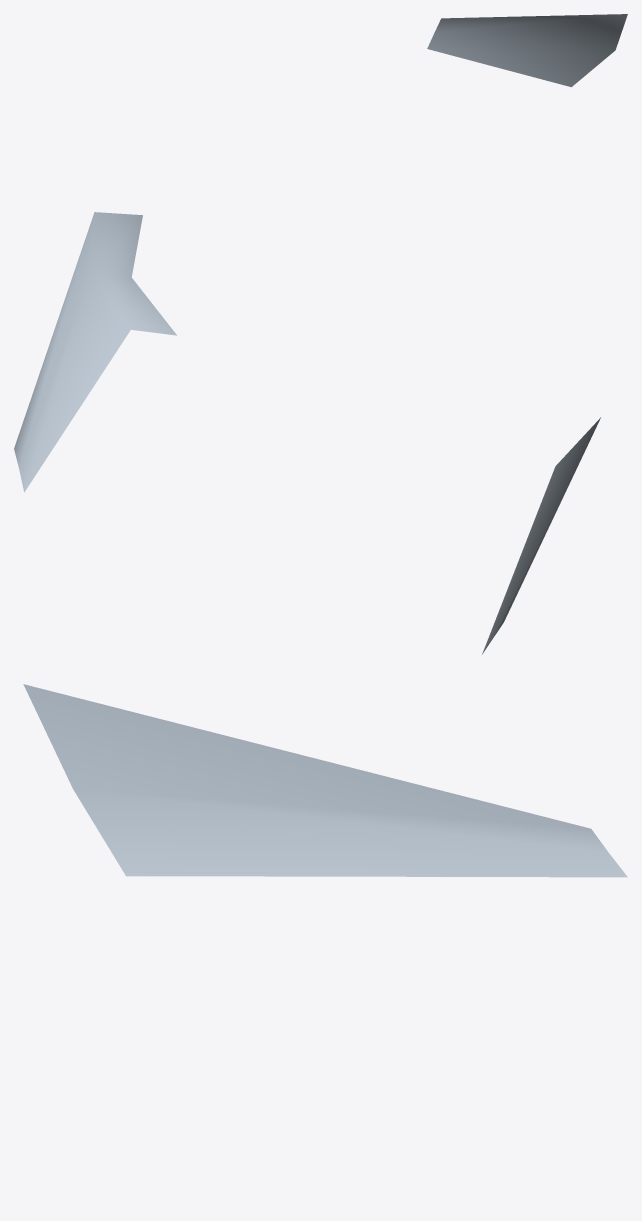
File: meniscopatellar-ligament-l.glb
3 renders of one model, top to bottom at view 1: azimuth 30°, elevation 25°; view 2: azimuth 150°, elevation 25°; view 3: azimuth 270°, elevation 25°, orthographic. The views are drawn at different scales.
Visible parts, largest first — view 1: Meniscopatellar ligament.l; view 2: Meniscopatellar ligament.l; view 3: Meniscopatellar ligament.l.
Part boxes in pixels (box(x1,y1,x2,y2)): Meniscopatellar ligament.l: box(427, 14, 627, 87); Meniscopatellar ligament.l: box(14, 212, 600, 654); Meniscopatellar ligament.l: box(23, 684, 627, 877).
Size of the model in its own units: 0.0485 by 0.0126 by 0.0289.
